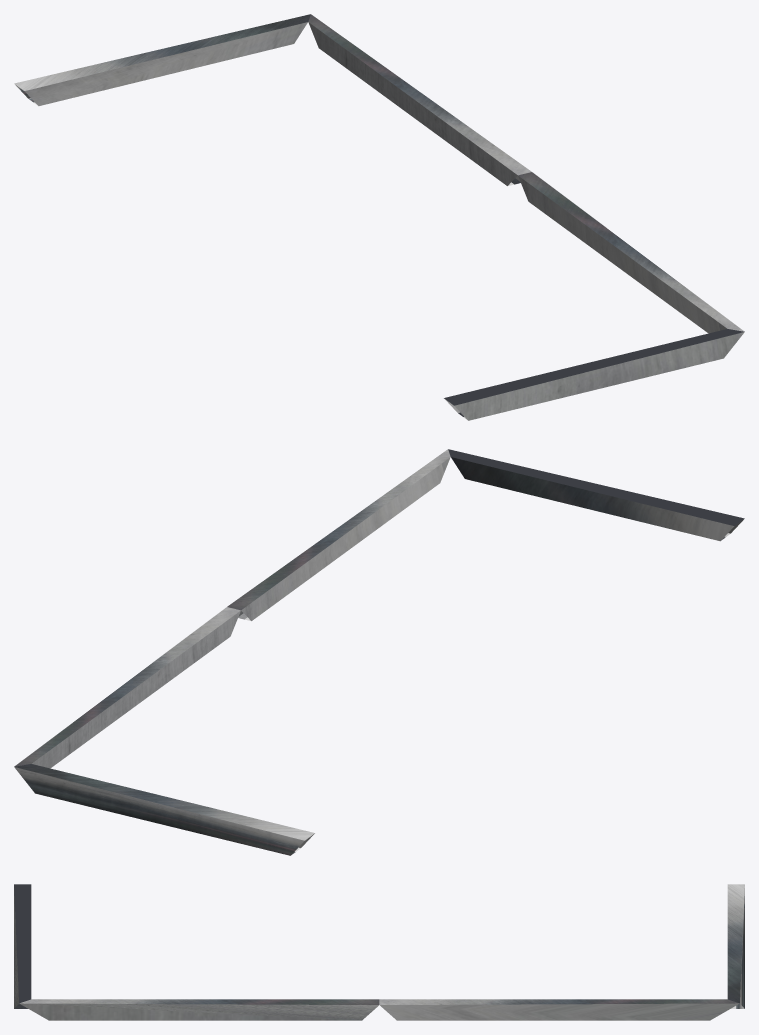
The model's file is trave_stand.obj.
3 renders of one model, top to bottom at view 1: azimuth 30°, elevation 25°; view 2: azimuth 150°, elevation 25°; view 3: azimuth 270°, elevation 25°, orthographic. The views are drawn at different scales.
Visible parts, largest first — view 1: Travesano_Stand; view 2: Travesano_Stand; view 3: Travesano_Stand.
Boxes of the visible parts, bbox=[...] form: Travesano_Stand: bbox=[14, 14, 744, 420]; Travesano_Stand: bbox=[14, 449, 744, 855]; Travesano_Stand: bbox=[14, 884, 744, 1020].
Size of the model in its own units: 1.46 by 0.0869 by 3.73.
2 materials, 2 textured.
